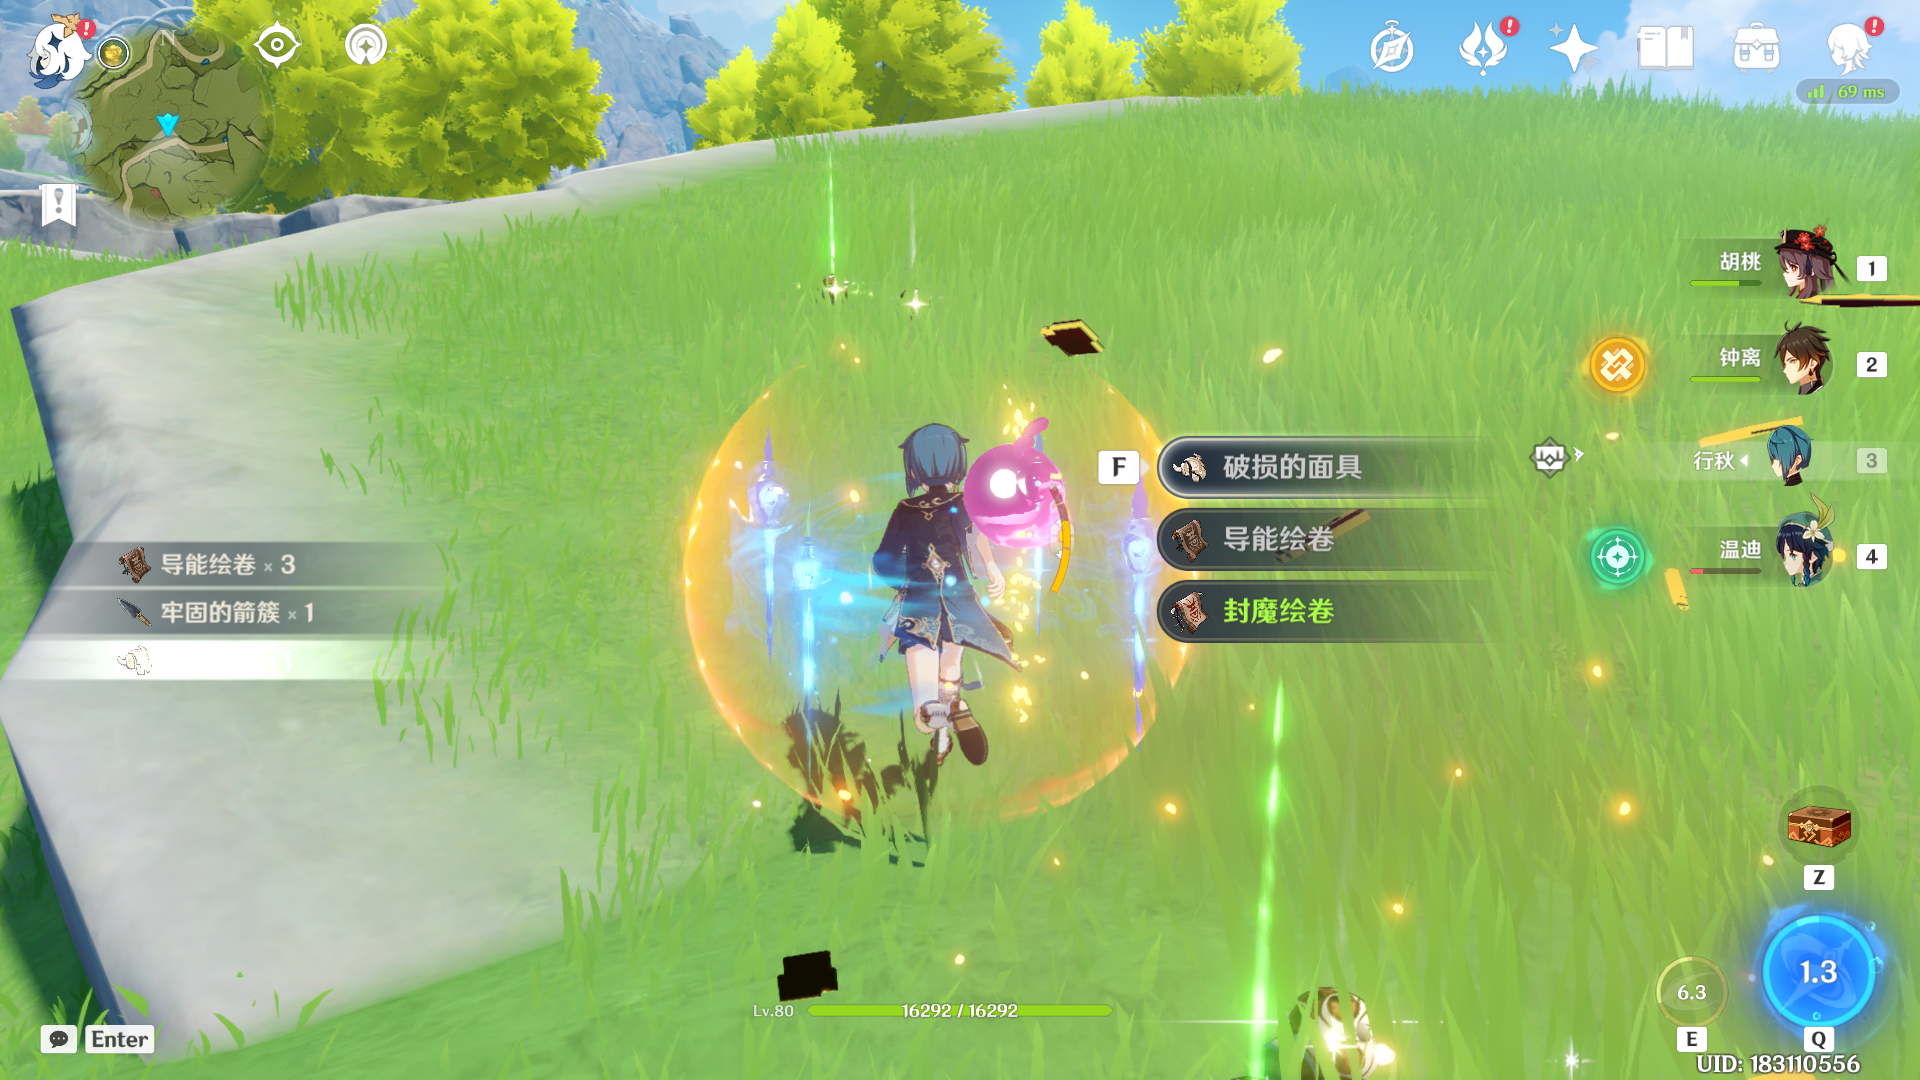character: (818, 363, 1059, 825)
